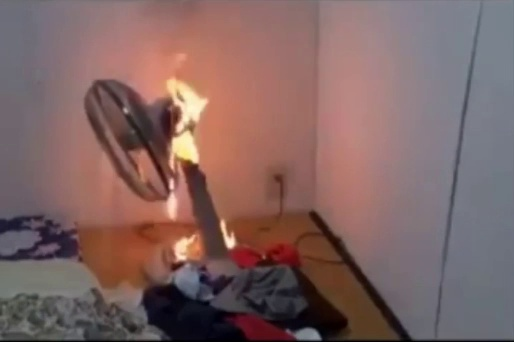fire: (162, 60, 220, 163)
